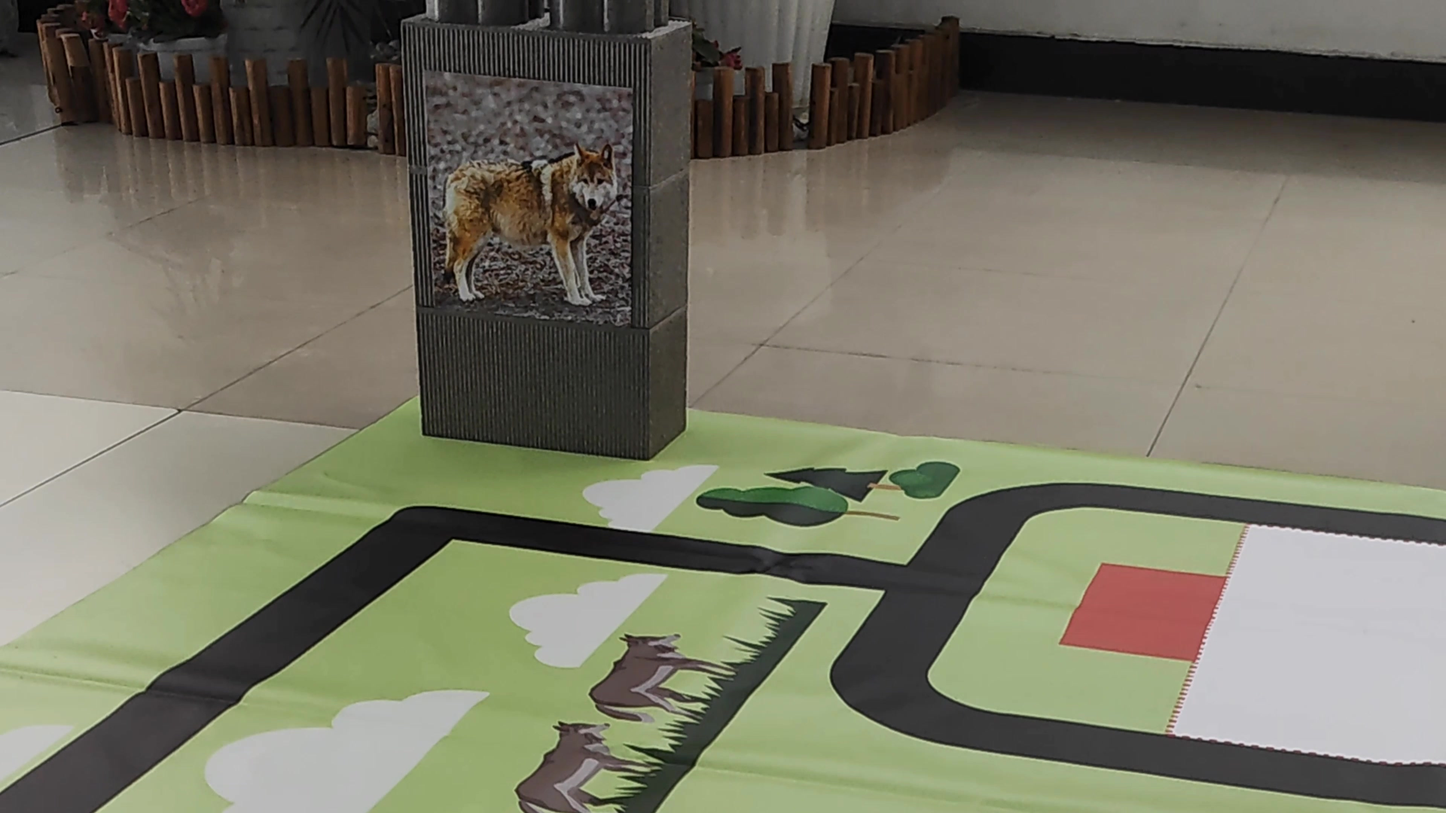wolf: (424, 126, 631, 327)
